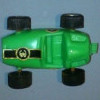carro: (4, 16, 96, 85)
